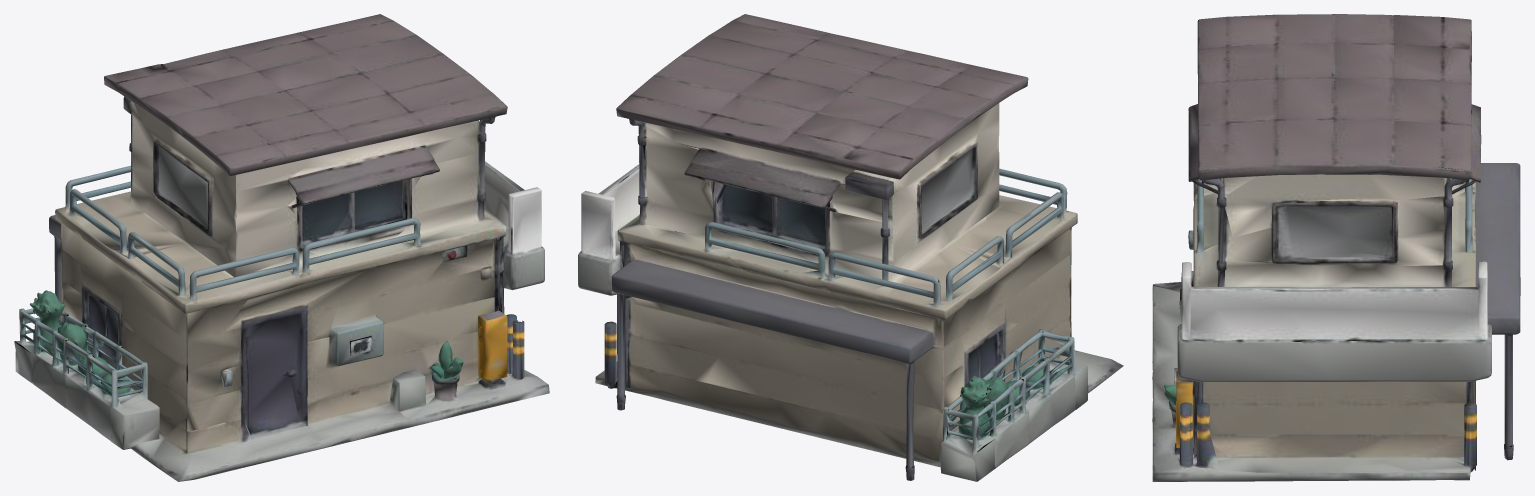
File: building8.glb
The picture shows the model from 3 angles, left to right: view 1: azimuth 30°, elevation 25°; view 2: azimuth 150°, elevation 25°; view 3: azimuth 270°, elevation 25°; orthographic projection. The views are drawn at different scales.
Parts seen in each view (by area): view 1: lo; view 2: lo; view 3: lo.
Part boxes in pixels (x1,y1,x2,y2): lo: (14, 14, 549, 481); lo: (578, 14, 1123, 481); lo: (1152, 14, 1520, 481).
Size of the model in its own units: 0.9997 by 0.7053 by 0.7554.
Materials: 1 (1 with a texture image).
